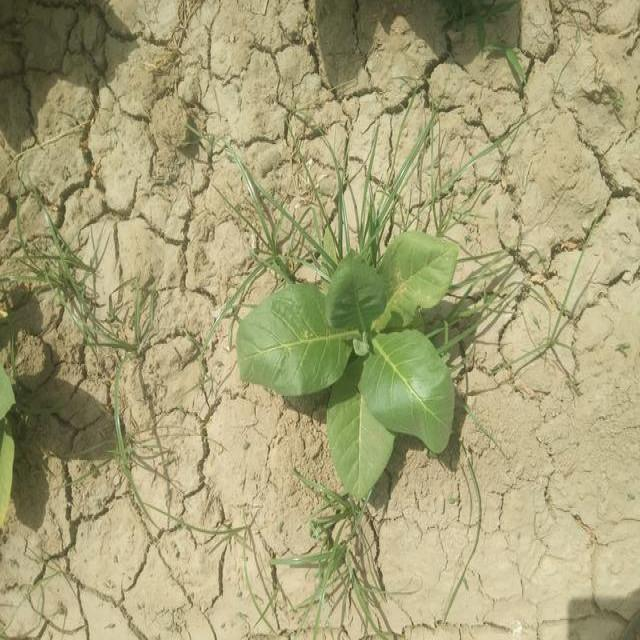crop: (241, 224, 462, 501)
